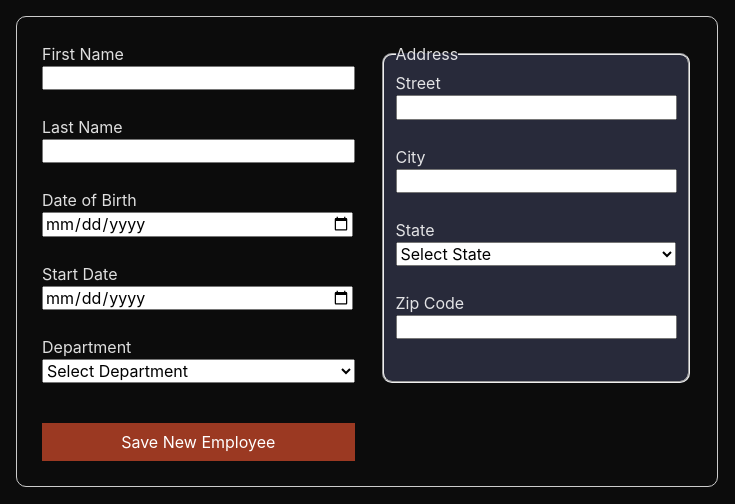
Test case: CreateForm Component › validates form and shows errors
What coordinates should you click on to do the following:
click the button "Save New Employee"
I would click on:
 (198, 442)
Its box is [42, 423, 354, 462].
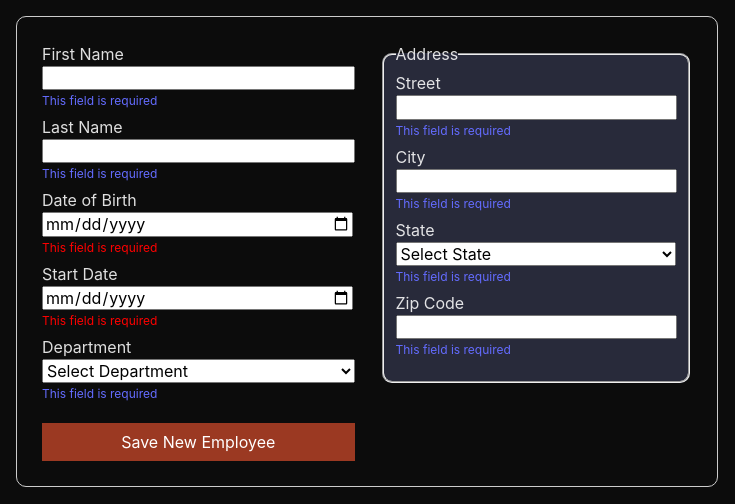
Now the text "This field is required" below "First Name" is shown, box [42, 93, 157, 108]
